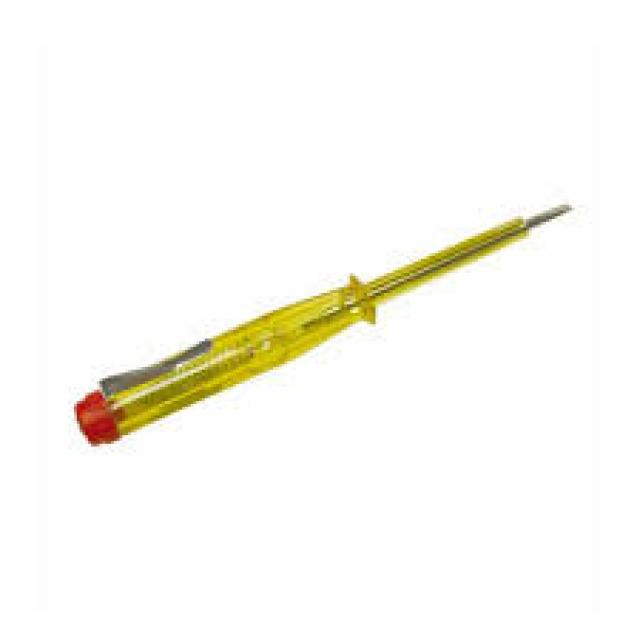screw driver: (5, 88, 640, 472)
